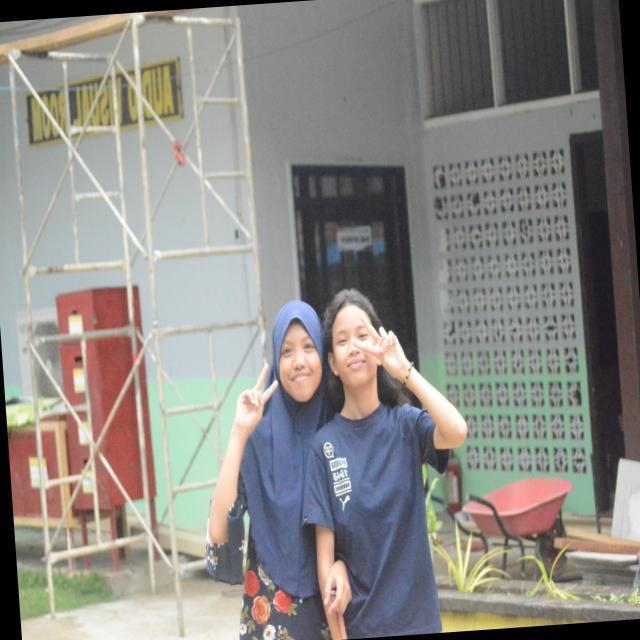person: (303, 290, 466, 639), (205, 301, 328, 639)
